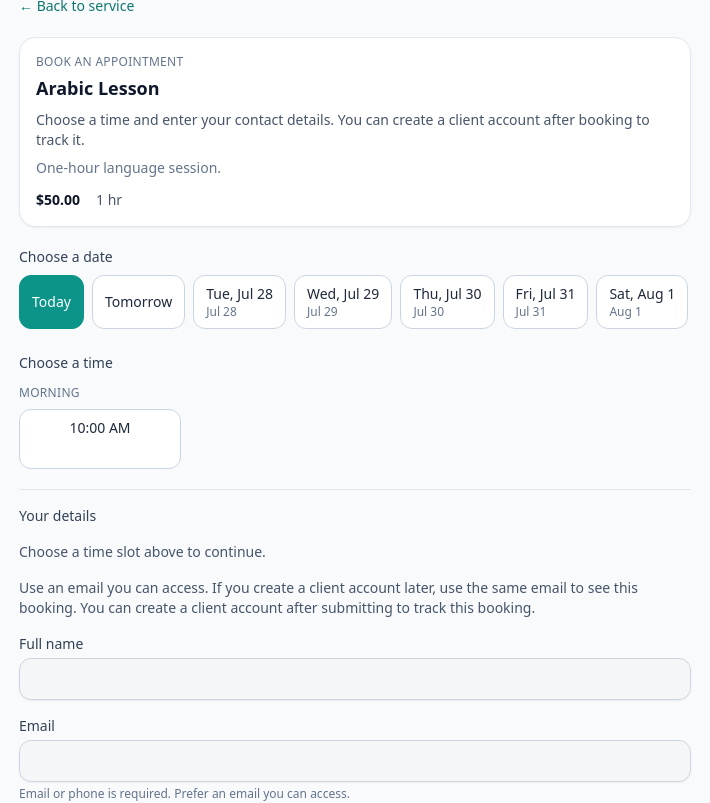
Test: booking consent › creates booking when consent is checked
Expected: the heading "Arabic Lesson" is shown, [36, 76, 160, 100]
Click the button "10:00 AM" at (100, 439), box [19, 409, 181, 469]
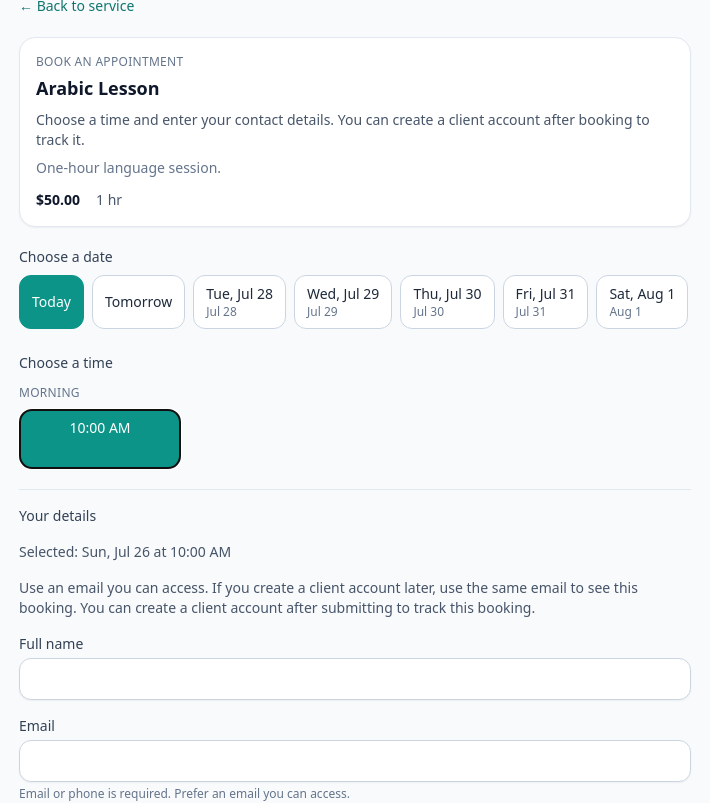
Type "Test Client" into the field labelled "Full name" at (355, 679), box [19, 658, 691, 700]
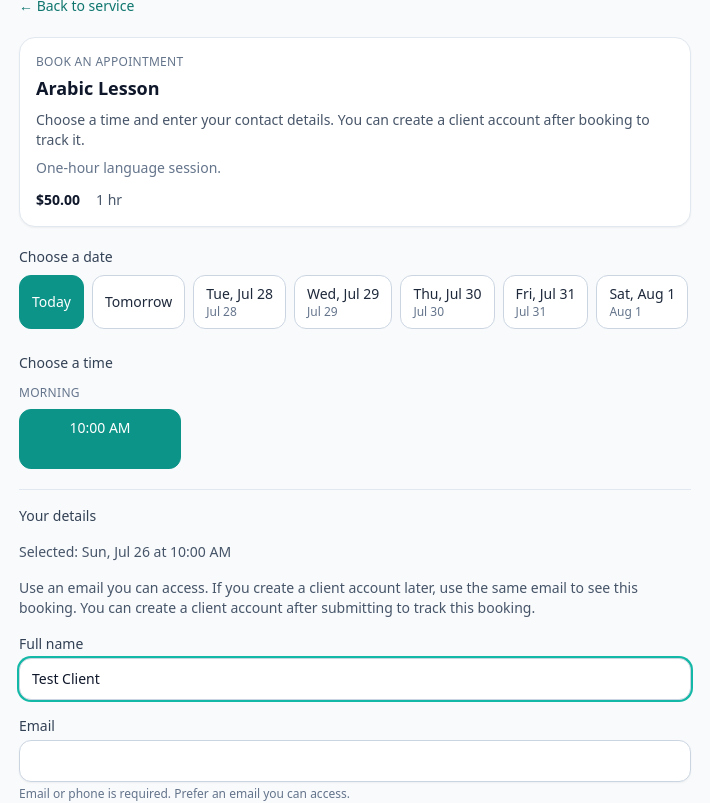
Type "client@example.com" into the field labelled "Email" at (355, 761), box [19, 740, 691, 782]
(page scrolled)
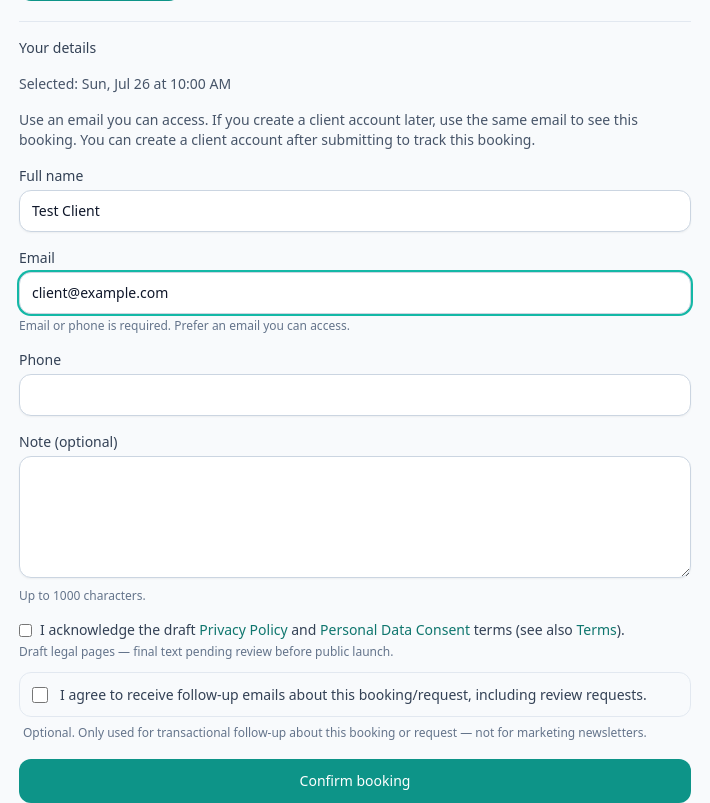
Click the checkbox labelled "acknowledge the draft Privacy Policy" at (26, 630), box [19, 624, 32, 637]
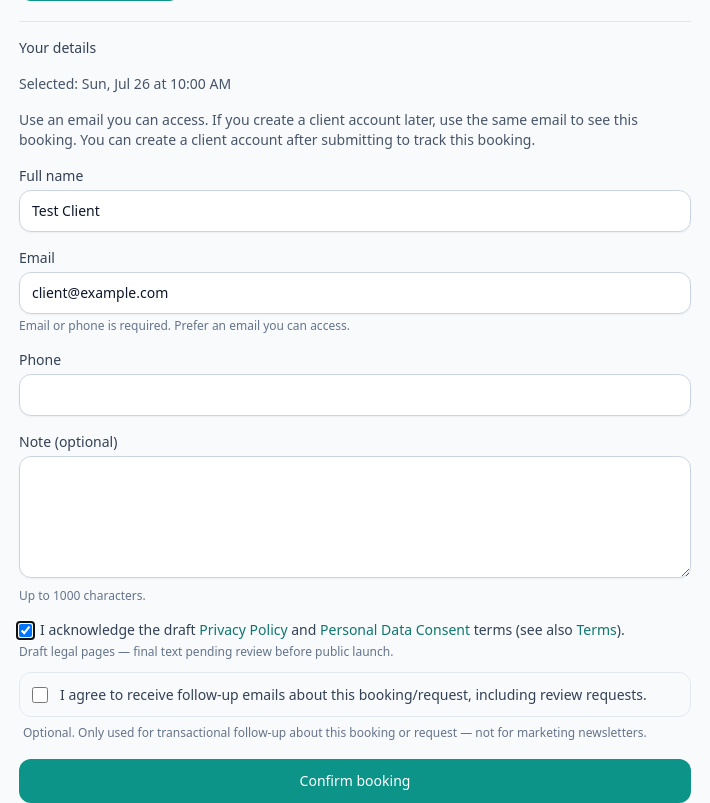
Click the button "Confirm booking" at (355, 781), box [19, 759, 691, 802]
(page scrolled)
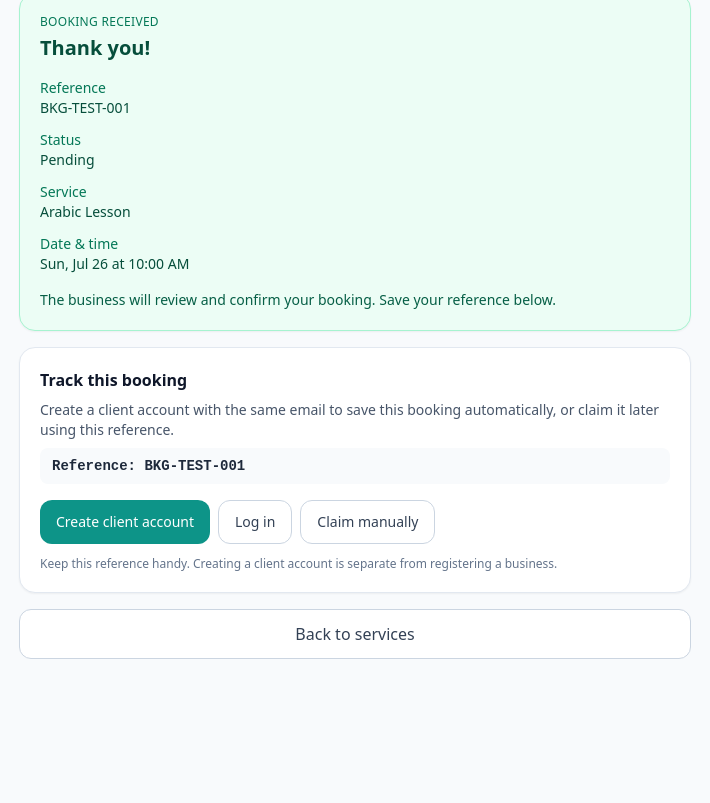
Expected: the text "Booking received" is shown, [40, 13, 159, 30]
